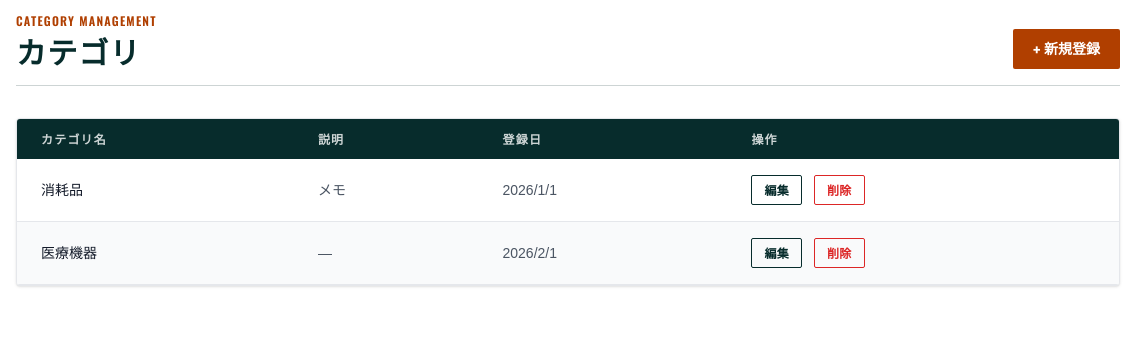
Scenario: CategoriesPage › 削除が409使用中エラーのときバナーにメッセージを表示する
The width and height of the screenshot is (1137, 364).
Check: the text "消耗品" is shown, box [17, 159, 294, 222]
Click the button "削除" in the row of "消耗品".
click(839, 190)  # box [814, 175, 865, 205]
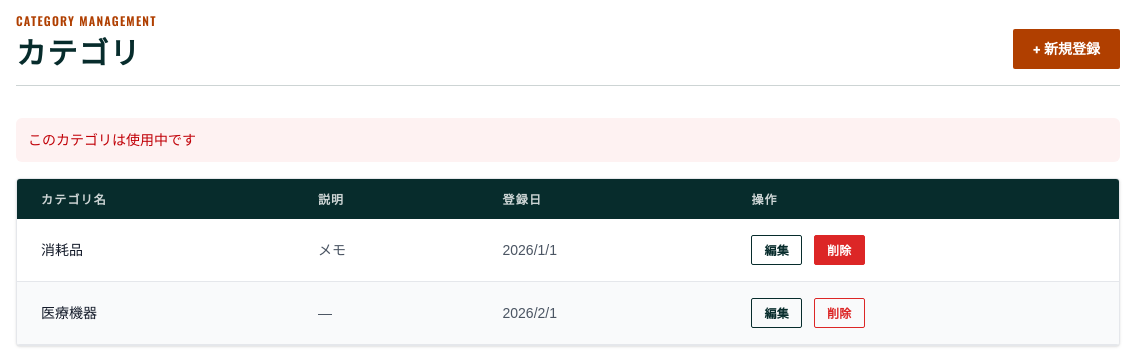
Check: the text "このカテゴリは使用中です" is shown, box [16, 118, 1120, 162]
